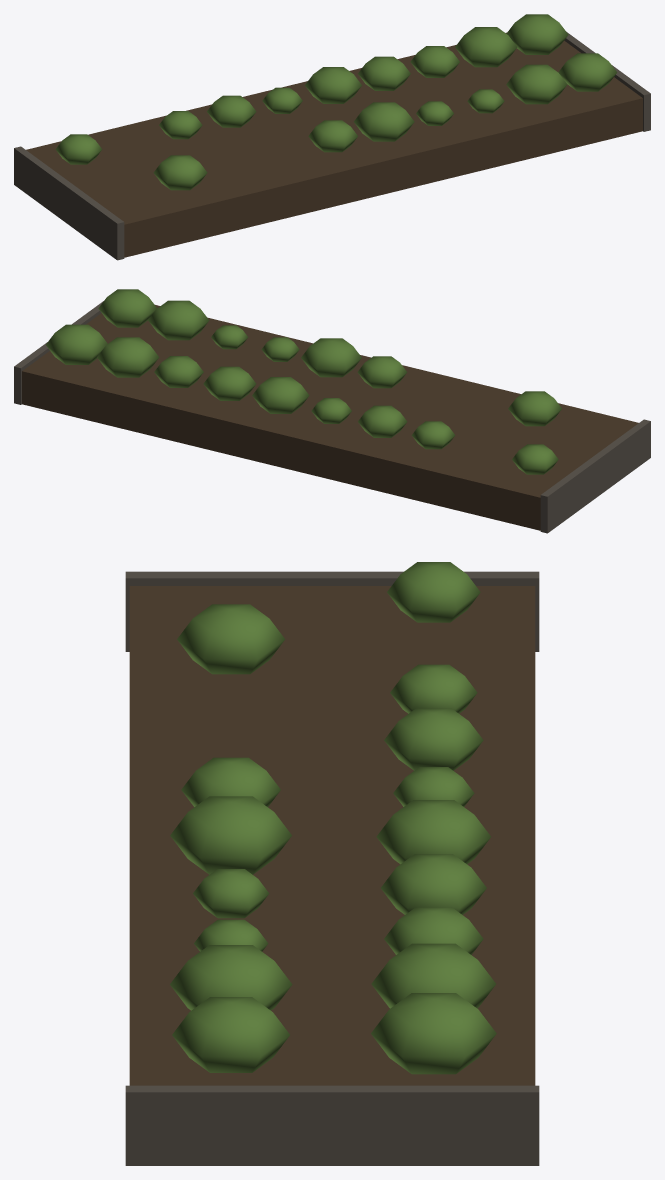
The model's file is garden_bed.glb.
3 renders of one model, top to bottom at view 1: azimuth 30°, elevation 25°; view 2: azimuth 150°, elevation 25°; view 3: azimuth 270°, elevation 25°, orthographic. The views are drawn at different scales.
Parts seen in each view (by area): view 1: GardenBed; view 2: GardenBed; view 3: GardenBed.
Part boxes in pixels (bbox=[...]): GardenBed: bbox=[14, 14, 650, 260]; GardenBed: bbox=[14, 289, 650, 533]; GardenBed: bbox=[125, 562, 539, 1165].
Bounding box in the file's own units: 3.04 × 0.3555 × 1.02.
